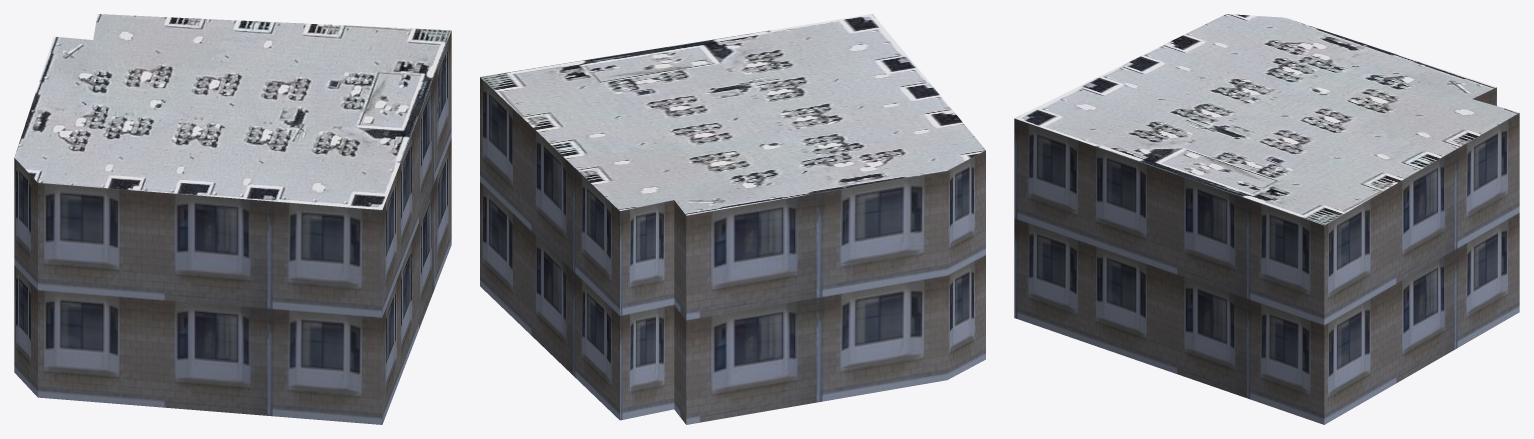
File: ResTex__316.fbx
3 views of the same model, side by side, from view 1: azimuth 30°, elevation 25°; view 2: azimuth 150°, elevation 25°; view 3: azimuth 270°, elevation 25° (orthographic). The views are drawn at different scales.
Parts seen in each view (by area): view 1: CityEngineMaterial_3_m, CityEngineMaterial_4_m; view 2: CityEngineMaterial_3_m, CityEngineMaterial_4_m; view 3: CityEngineMaterial_3_m, CityEngineMaterial_4_m.
Part boxes in pixels (x1,y1,x2,y2): CityEngineMaterial_3_m: (14, 31, 451, 424); CityEngineMaterial_4_m: (14, 14, 451, 209); CityEngineMaterial_3_m: (480, 77, 985, 424); CityEngineMaterial_4_m: (480, 14, 985, 215); CityEngineMaterial_3_m: (1014, 87, 1519, 424); CityEngineMaterial_4_m: (1014, 14, 1519, 225).
Bounding box in the file's own units: 13.63 × 6 × 13.78.
Materials: 2 (2 with a texture image).
